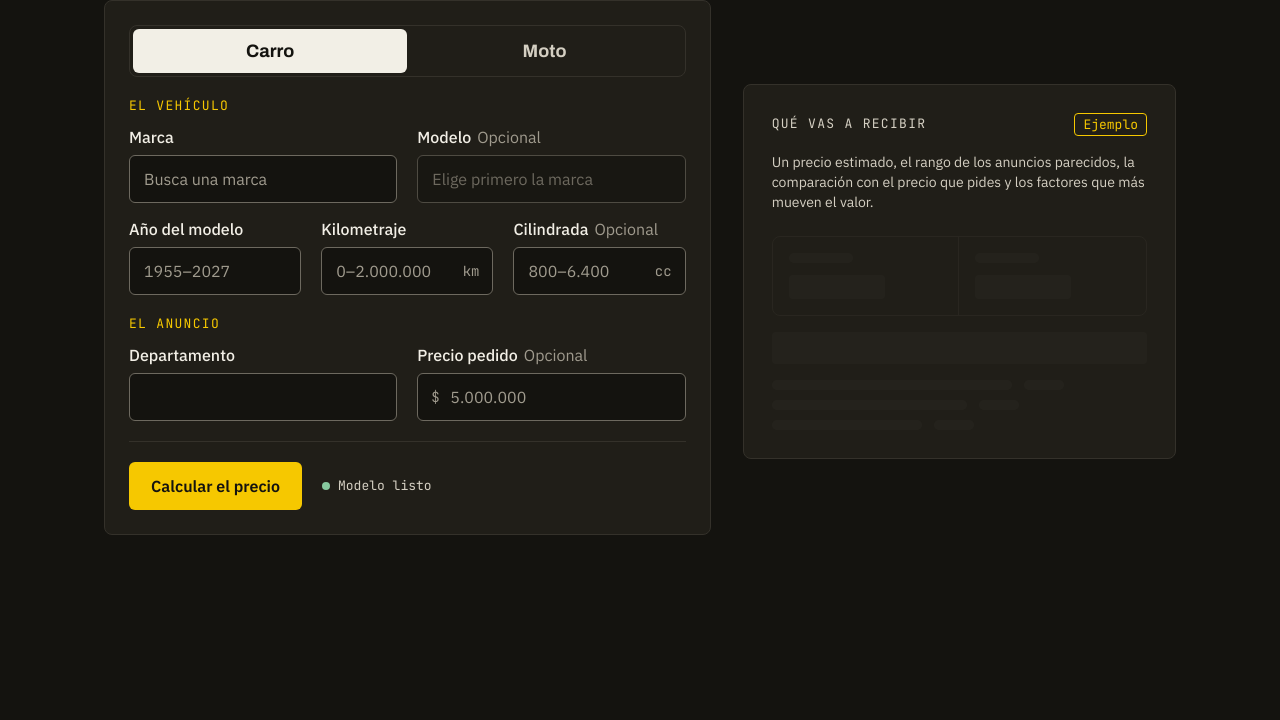
it: the field ranges › refuse a 1930 car when the field is left
This screenshot has width=1280, height=720.
Expected: the text "Modelo listo" is shown, [322,477,432,496]
Type "1930" into the field labelled "Año del modelo" at (215, 271), box [129,247,301,295]
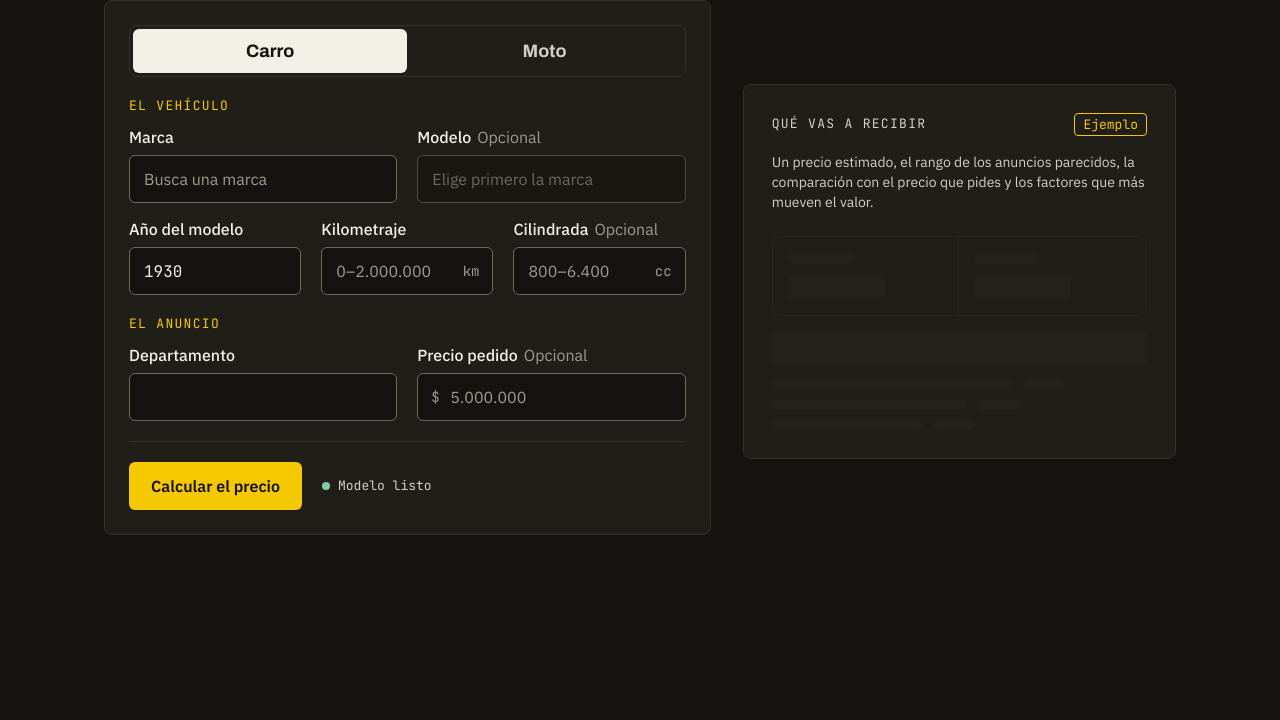
Leave the field labelled "Año del modelo", box [129,247,301,295]
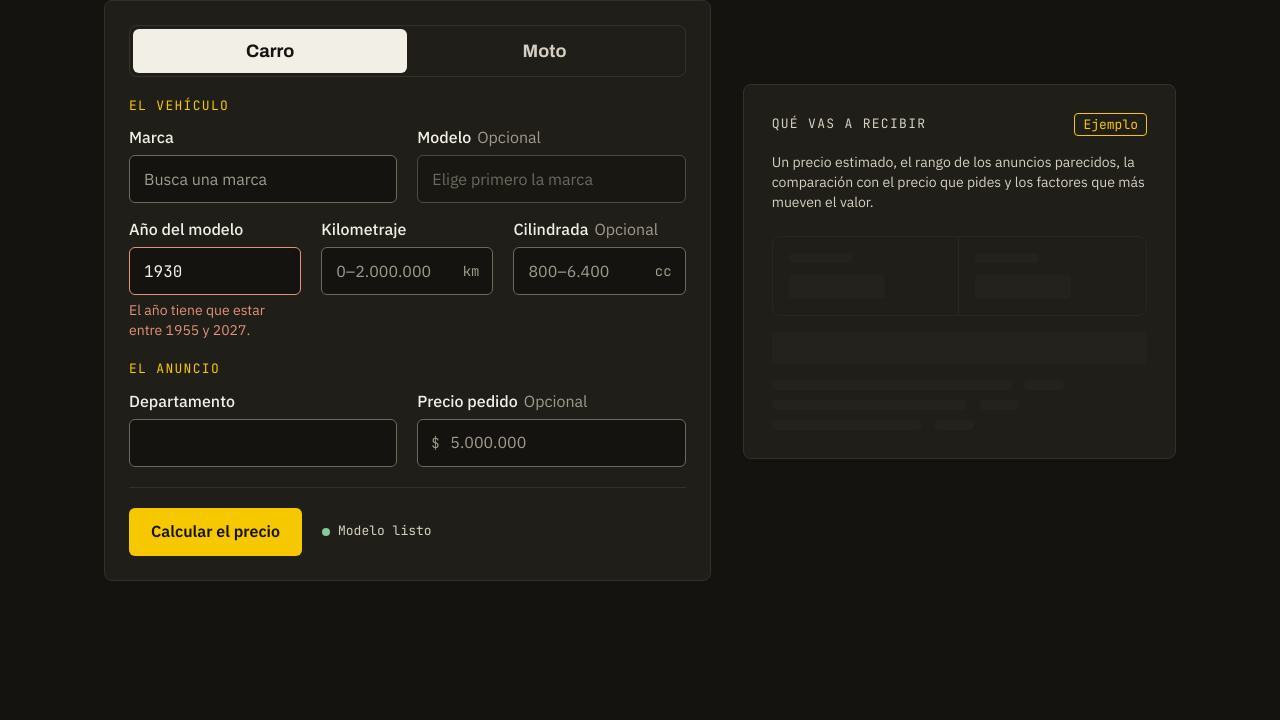
Expected: the text "El año tiene que estar entre 1955 y 2027." is shown, [129,301,265,339]
